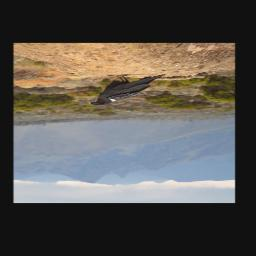Crow: (87, 72, 168, 107)
